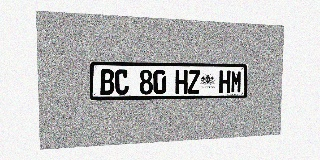0: (153, 70, 166, 94)
8: (140, 70, 153, 94)
B: (100, 69, 114, 95)
C: (115, 69, 129, 95)
H: (175, 70, 188, 94), (219, 70, 231, 93)
M: (231, 70, 242, 93)
Z: (188, 70, 200, 94)
